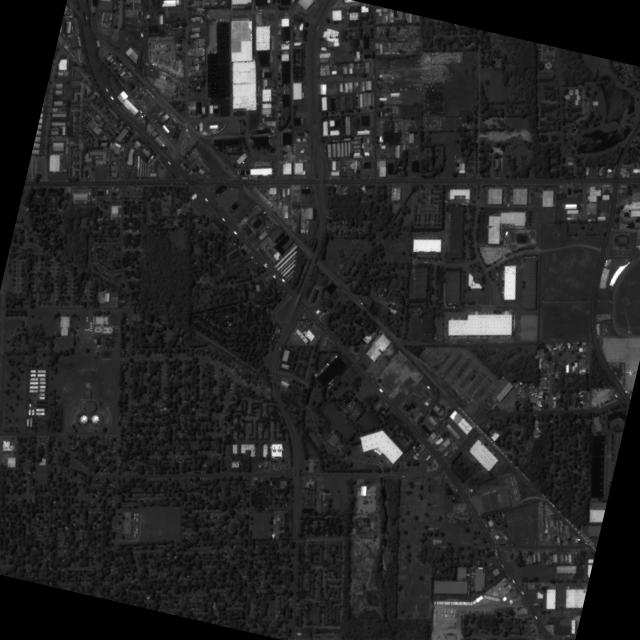plane: (625, 367, 634, 375), (635, 241, 640, 249)
